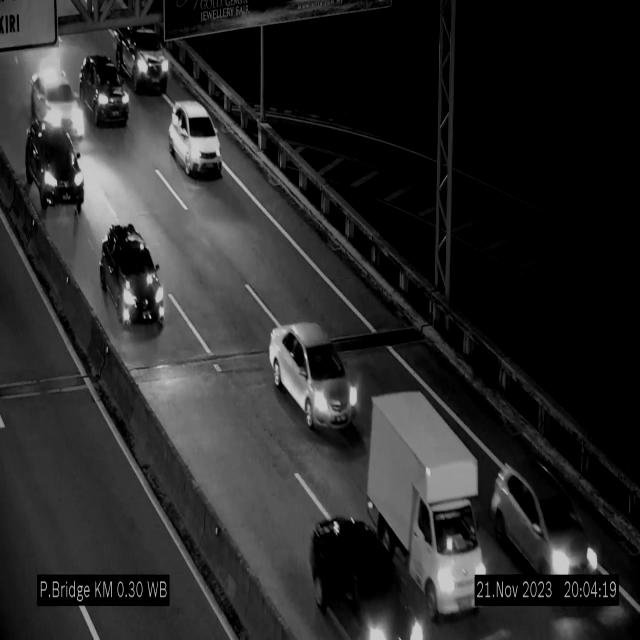Car: (308, 516, 424, 640), (491, 453, 598, 576), (269, 324, 358, 430), (99, 222, 166, 350), (22, 119, 86, 220), (30, 66, 86, 144), (168, 101, 222, 176), (114, 26, 168, 94), (80, 56, 128, 128)
Truck: (367, 390, 487, 630)
